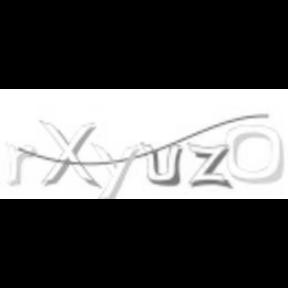O: (222, 124, 286, 186)
X: (38, 118, 102, 190)
r: (1, 143, 37, 187)
u: (138, 139, 182, 185)
y: (91, 140, 141, 200)
z: (185, 141, 231, 189)
